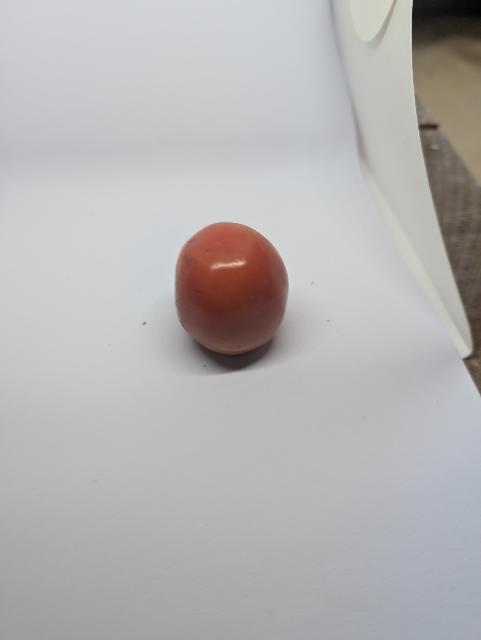red: (162, 220, 301, 372)
